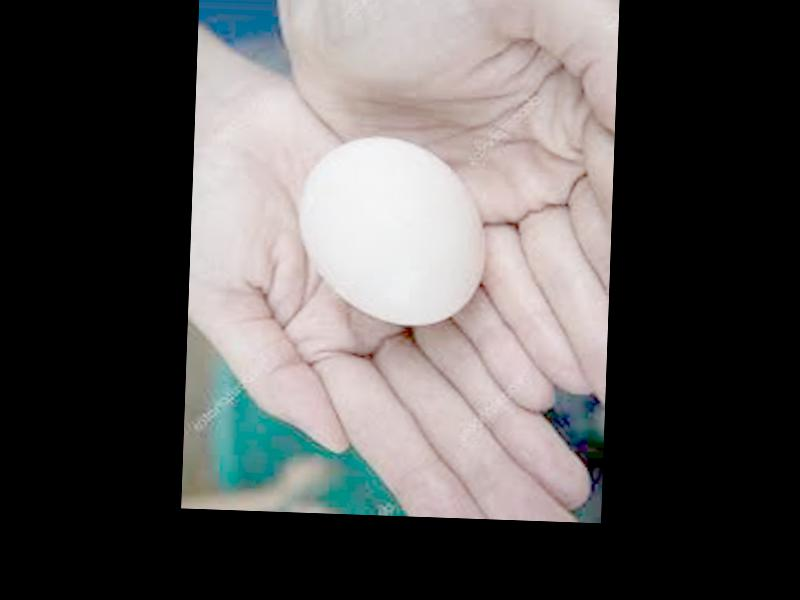Eggs: (300, 136, 483, 327)
